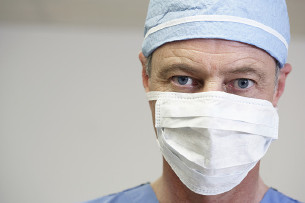face_mask: (154, 50, 278, 196)
